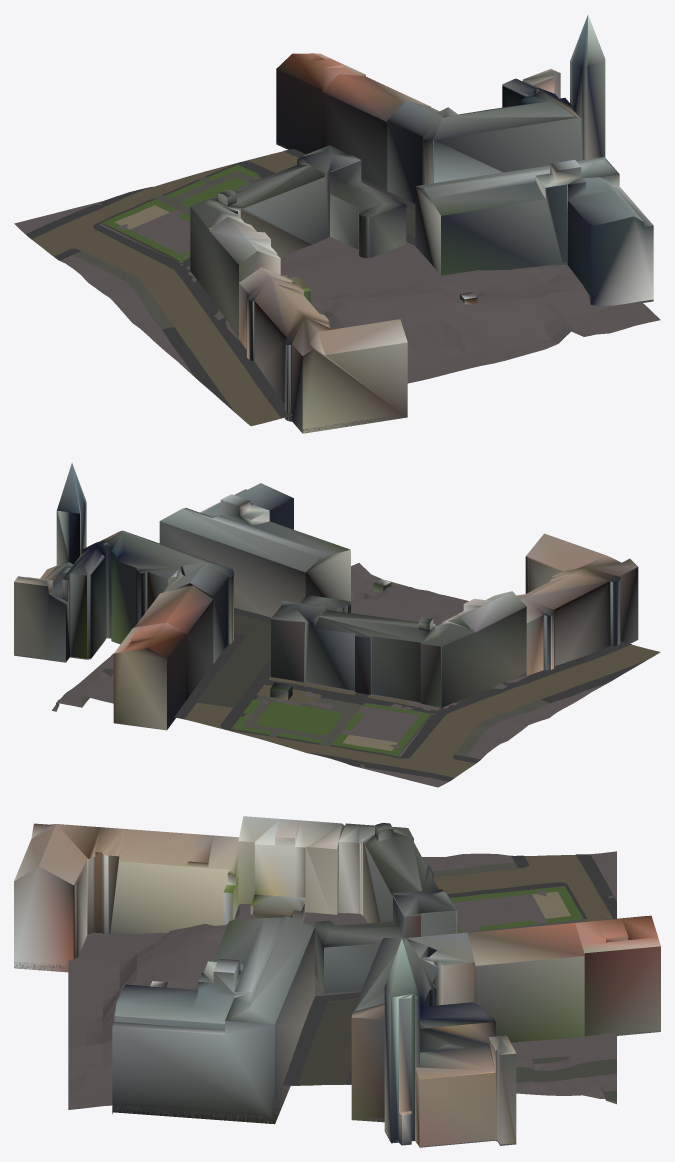
3 renders of one model, top to bottom at view 1: azimuth 30°, elevation 25°; view 2: azimuth 150°, elevation 25°; view 3: azimuth 270°, elevation 25°, orthographic. The views are drawn at different scales.
Parts seen in each view (by area): view 1: append:c_m12_m06, c_m12_m06; view 2: append:c_m12_m06, c_m12_m06; view 3: append:c_m12_m06, c_m12_m06.
Boxes of the visible parts, x1=… form: append:c_m12_m06: x1=14, y1=53, x2=660, y2=433; c_m12_m06: x1=387, y1=14, x2=605, y2=203; append:c_m12_m06: x1=52, y1=483, x2=660, y2=787; c_m12_m06: x1=14, y1=463, x2=233, y2=663; append:c_m12_m06: x1=14, y1=816, x2=660, y2=1124; c_m12_m06: x1=351, y1=932, x2=516, y2=1147.
Bounding box in the file's own units: 156 × 58.4 × 151.
